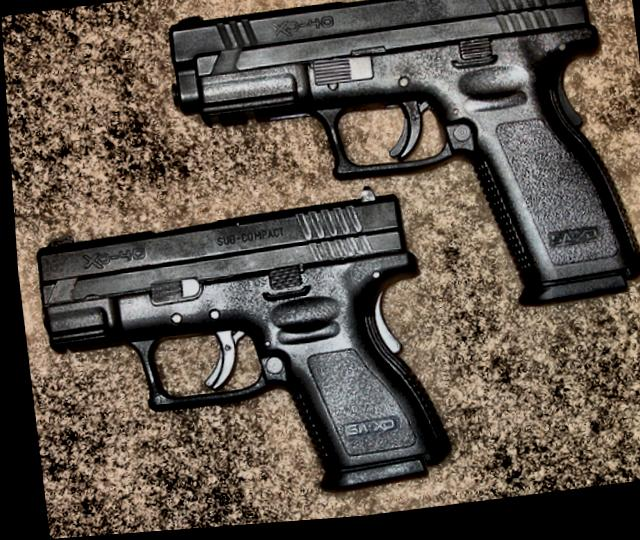pistol: (163, 0, 639, 350), (29, 188, 445, 522)
